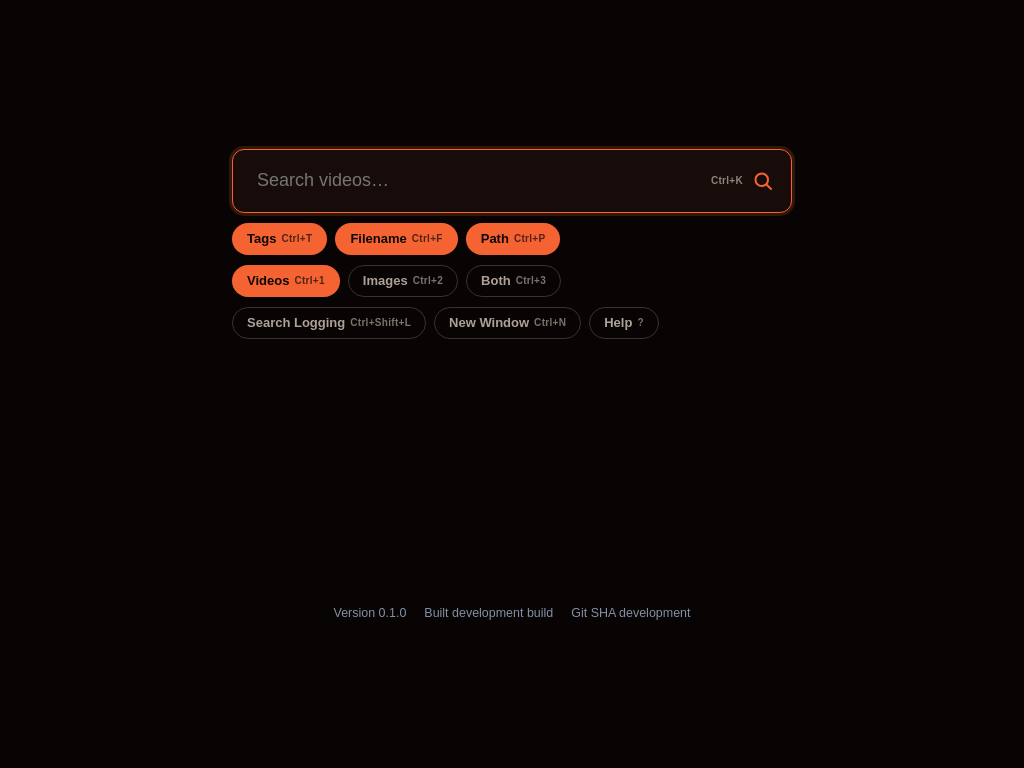
Test: shows video tags and edits them with the tag helper
Type "tagged" into the search field at [512, 180], box 232,148 -> 792,212
Then press Enter
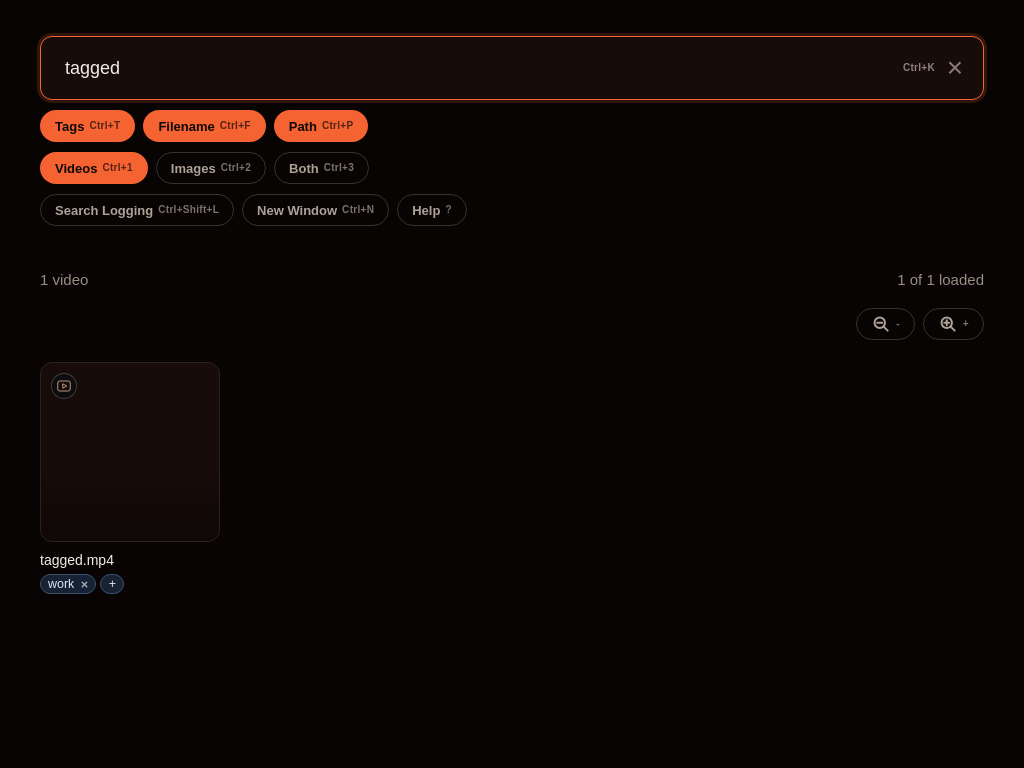
Check: the button with aria-label "Remove tag work" is shown, box 40,574 -> 96,594
Click the button named "Add tag to tagged.mp4" at [112, 584], box 100,574 -> 124,594
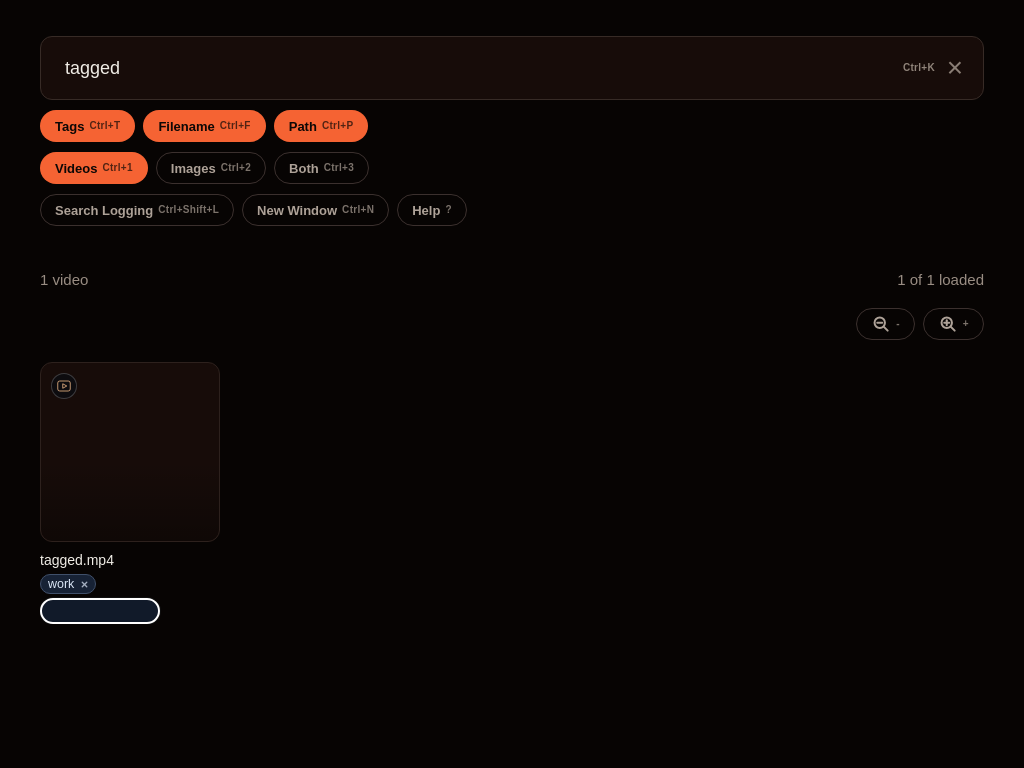
Type "review" into the field named "Add tag to tagged.mp4" at [100, 611], box 40,598 -> 160,624
Then press Enter
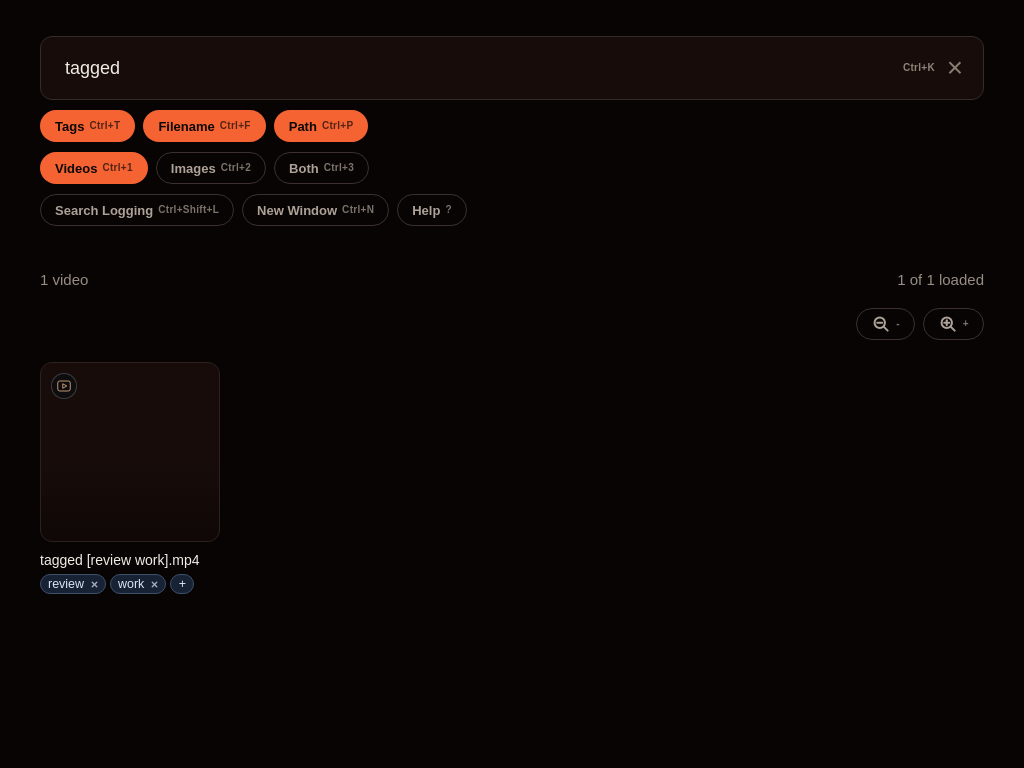
Check: the button with aria-label "Remove tag review" is shown, box 40,574 -> 106,594
Check: the button with aria-label "Play tagged [review work].mp4" is shown, box 40,362 -> 220,568
Click the button with aria-label "Remove tag work" at [138, 584], box 110,574 -> 166,594
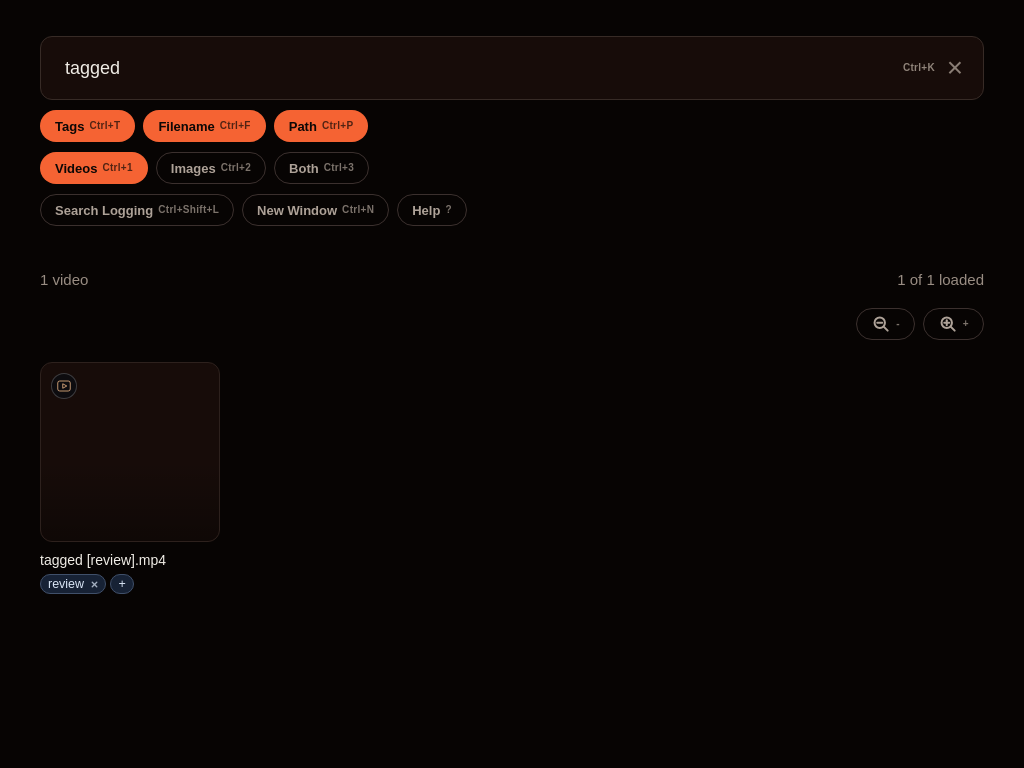
Check: the button with aria-label "Play tagged [review].mp4" is shown, box 40,362 -> 220,568
